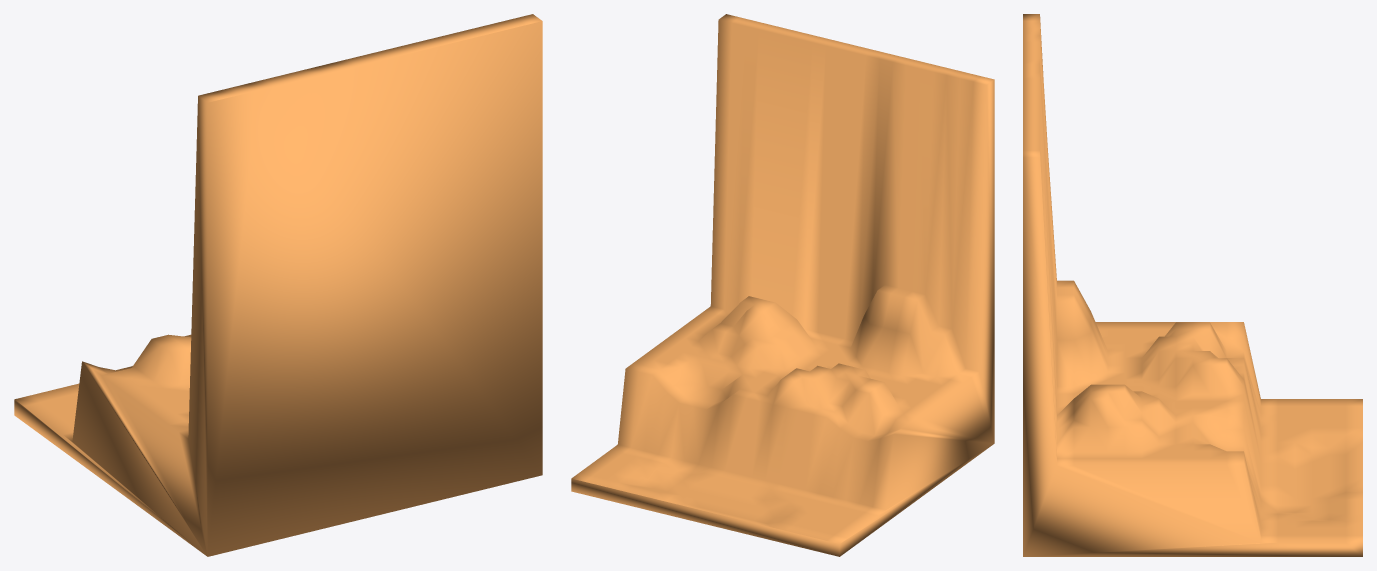
The model's file is left4.fbx.
The picture shows the model from 3 angles, left to right: view 1: azimuth 30°, elevation 25°; view 2: azimuth 150°, elevation 25°; view 3: azimuth 270°, elevation 25°; orthographic projection. The views are drawn at different scales.
Parts seen in each view (by area): view 1: Model; view 2: Model; view 3: Model.
Part boxes in pixels (x1,y1,x2,y2): Model: (14, 14, 542, 556); Model: (571, 14, 994, 556); Model: (1023, 14, 1362, 556).
Size of the model in its own units: 1000 by 1296 by 1000.
